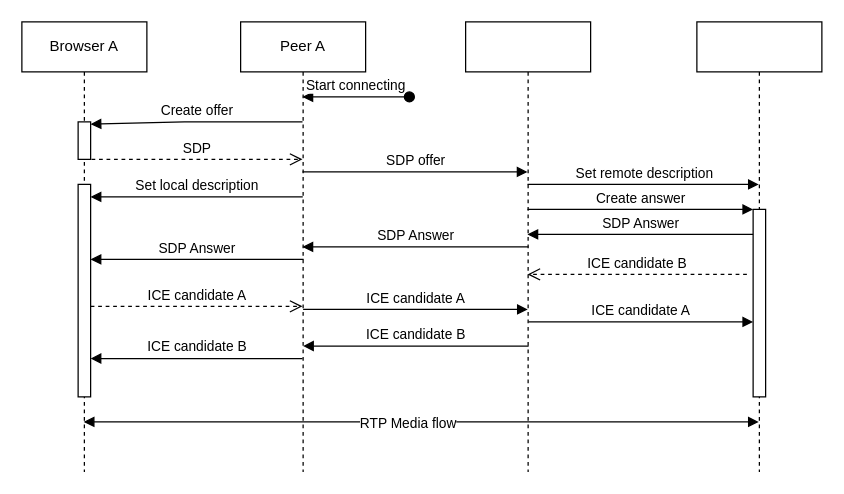
Image size: 844x494. Some labels were removed from this diagram. Each missing label, with the centre of its shape:
Browser B: (759,246)
Peer B: (527,246)
